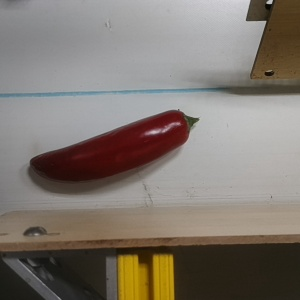Cut Point: (168, 105, 198, 143)
